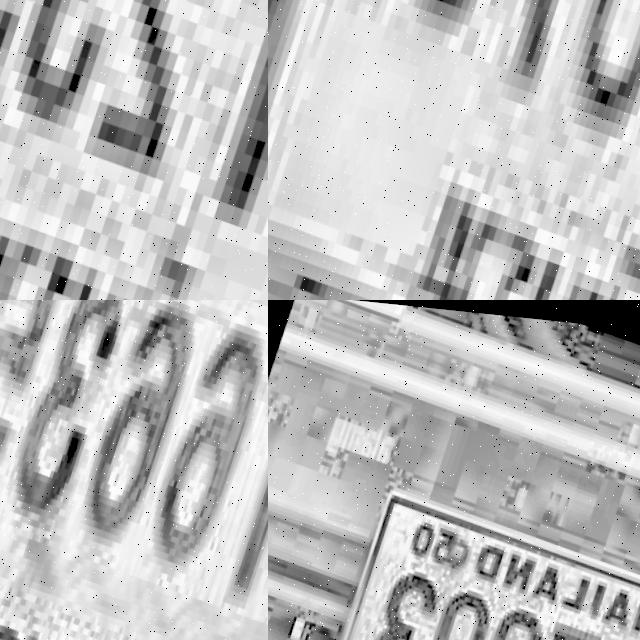license-plate: (268, 0, 640, 300), (0, 300, 268, 640), (0, 0, 268, 300), (299, 470, 640, 640)
